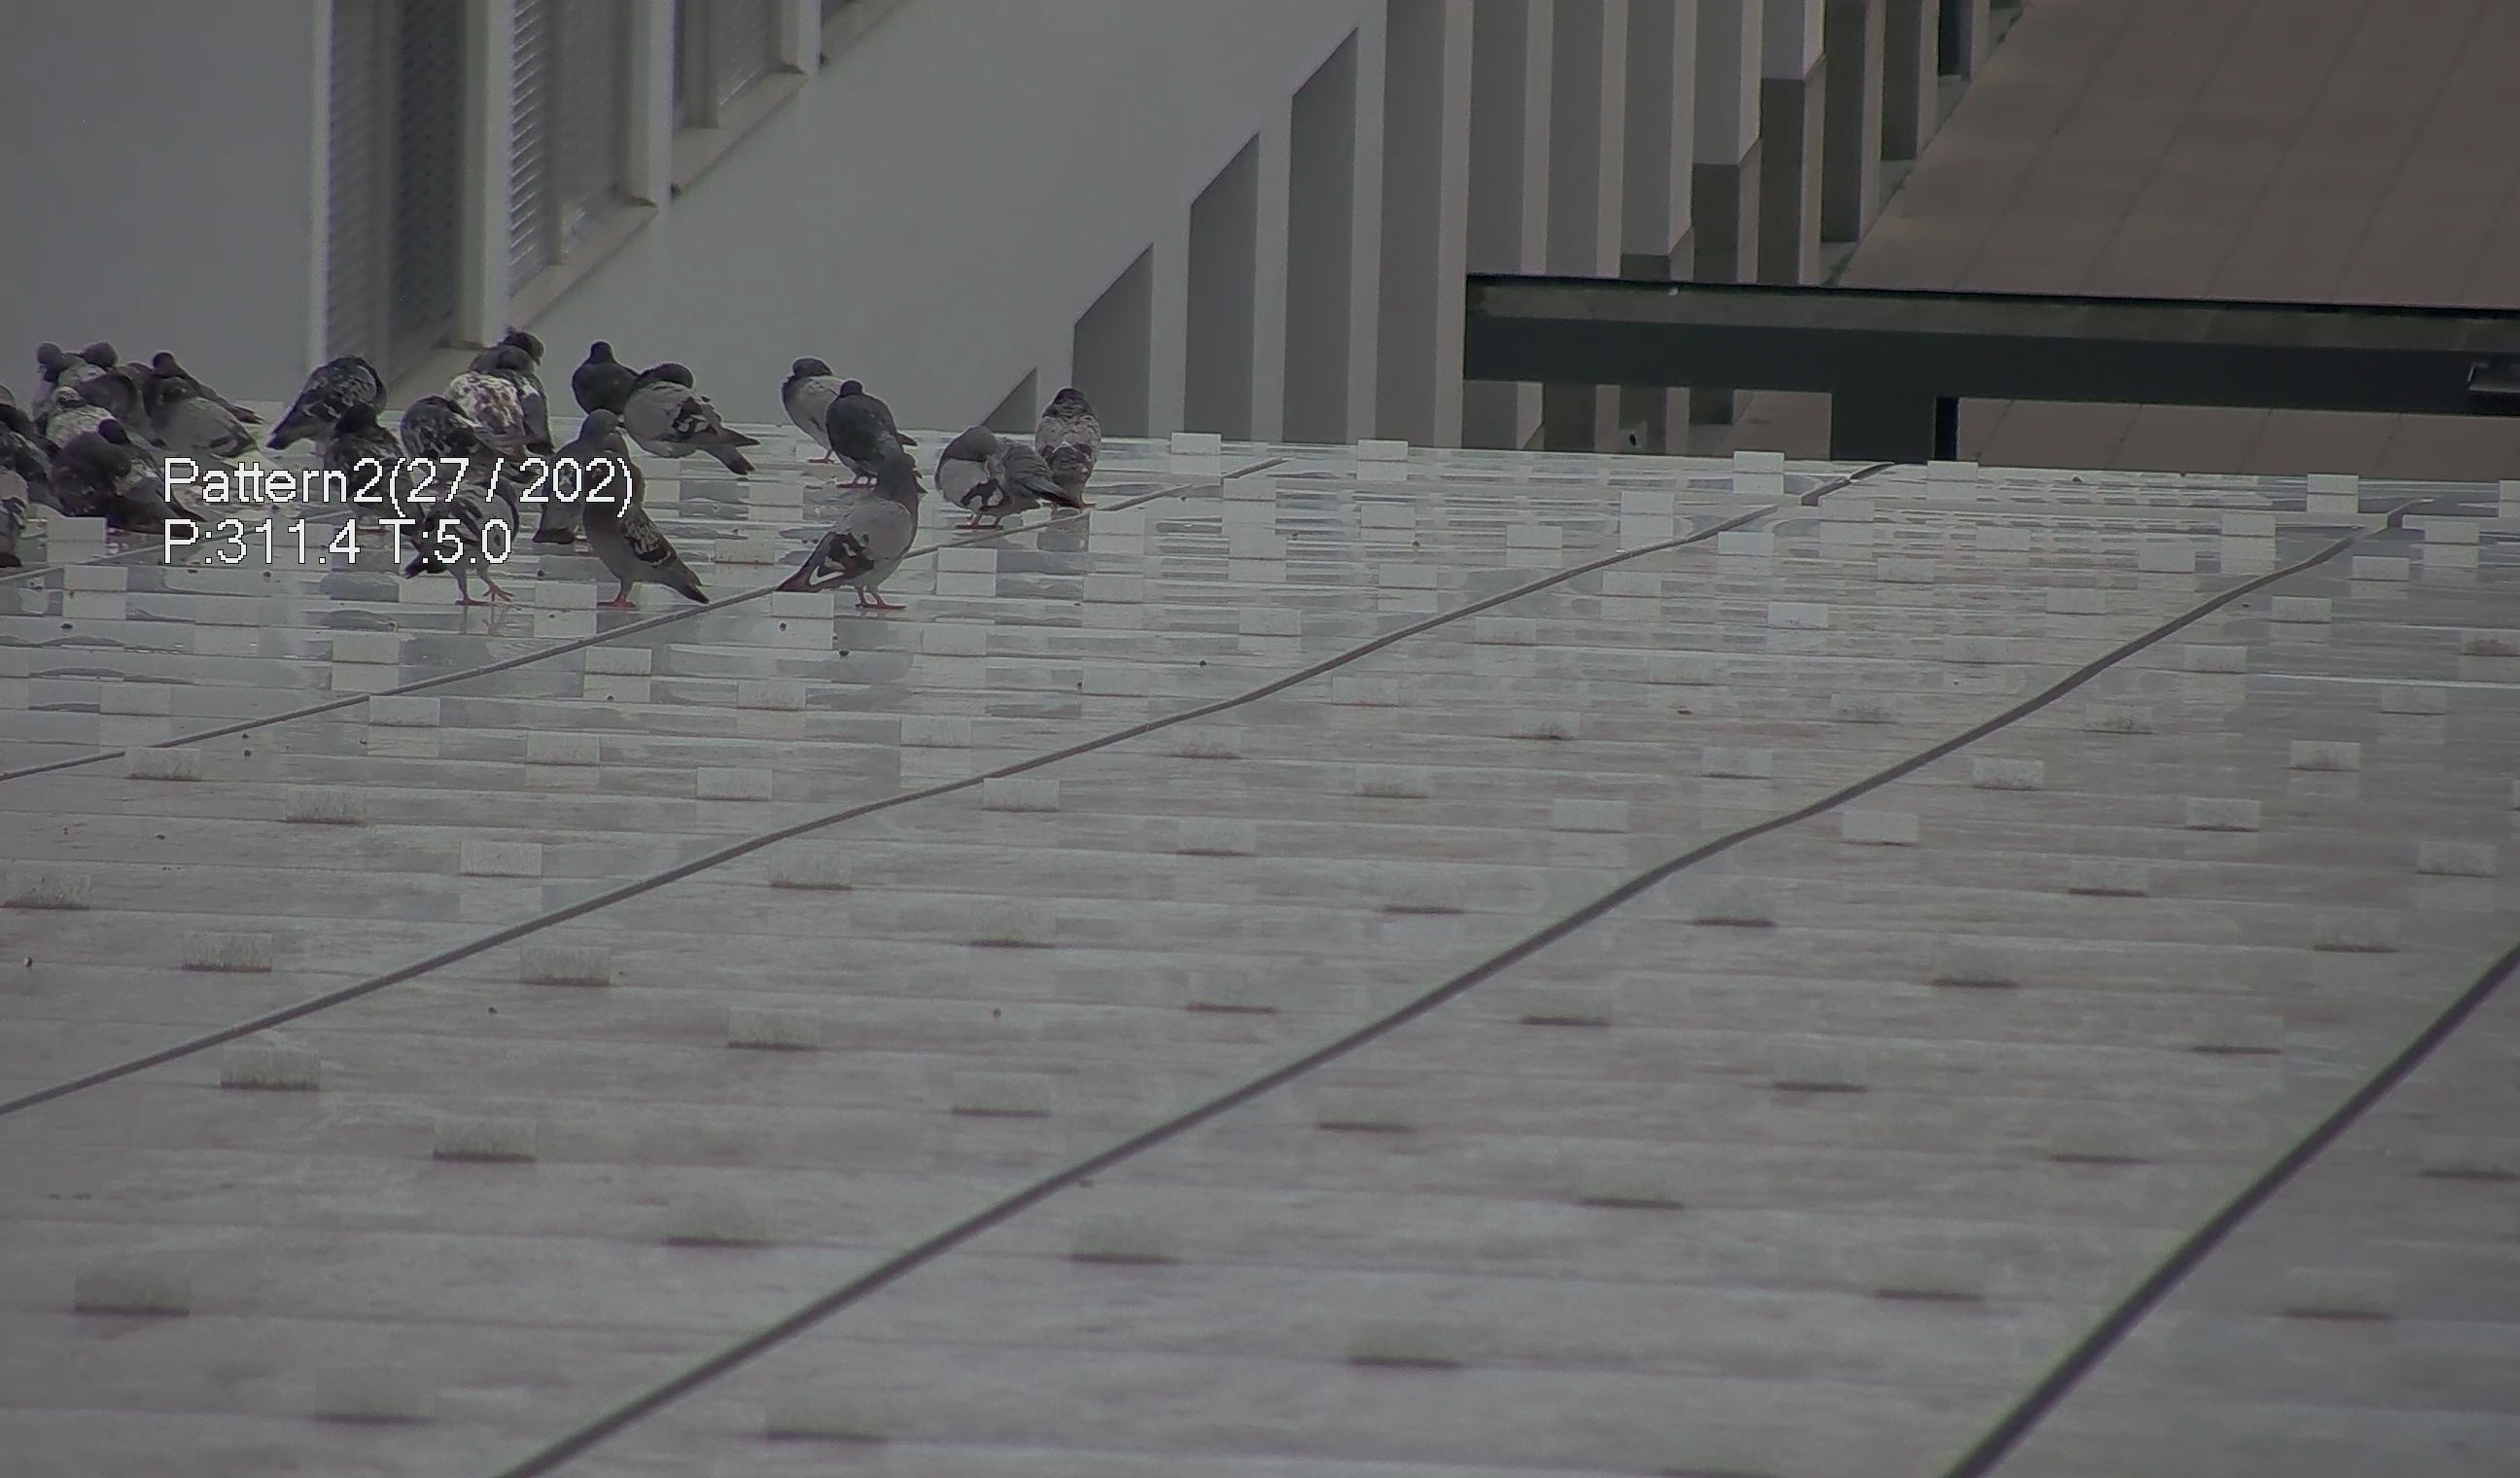Pigeon: (777, 450, 923, 621), (408, 324, 573, 463), (587, 452, 710, 635), (396, 466, 519, 621), (930, 408, 1055, 549), (612, 359, 768, 470), (149, 380, 295, 496), (58, 428, 204, 538), (267, 345, 394, 452), (540, 406, 630, 547), (327, 408, 420, 542), (1016, 368, 1103, 505), (827, 368, 918, 493), (758, 347, 841, 450), (572, 329, 640, 412), (26, 327, 79, 385)
